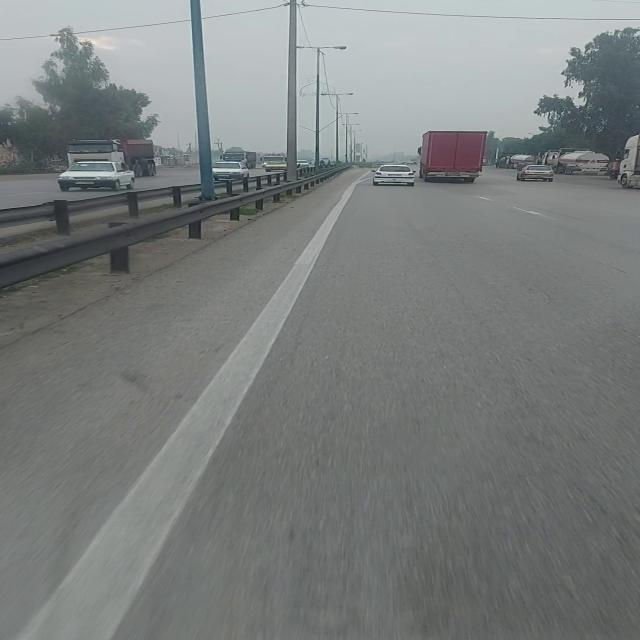Car: (369, 164, 419, 188), (212, 161, 252, 181), (517, 164, 557, 183), (263, 160, 289, 173)
Pickup: (56, 161, 138, 191)
Truck: (418, 129, 492, 183), (67, 137, 160, 165), (554, 146, 612, 175), (616, 132, 640, 192), (221, 149, 261, 168), (505, 153, 541, 169)
